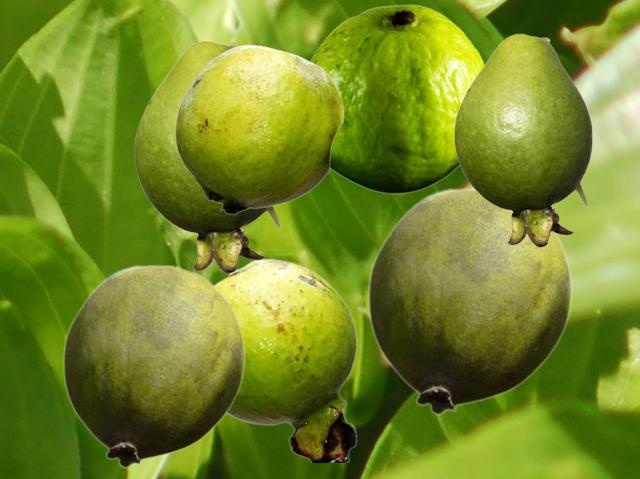guava: (367, 187, 572, 414), (62, 264, 245, 467), (134, 40, 281, 272), (309, 4, 484, 193), (454, 33, 591, 246), (214, 258, 357, 461), (175, 44, 343, 214)
